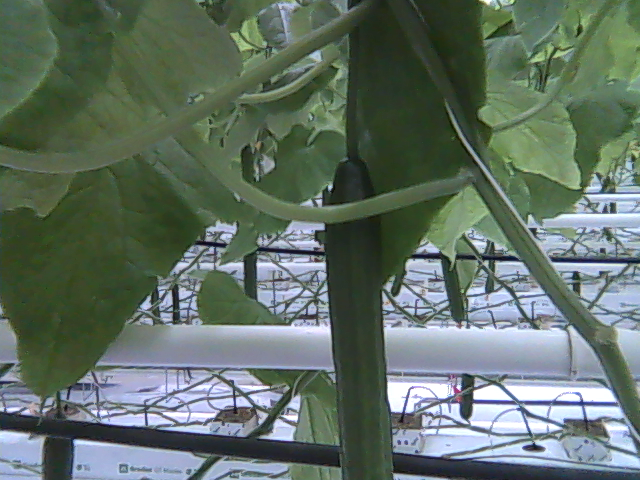concombre: (319, 146, 401, 480)
